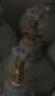cylinder: (1, 1, 55, 96)
